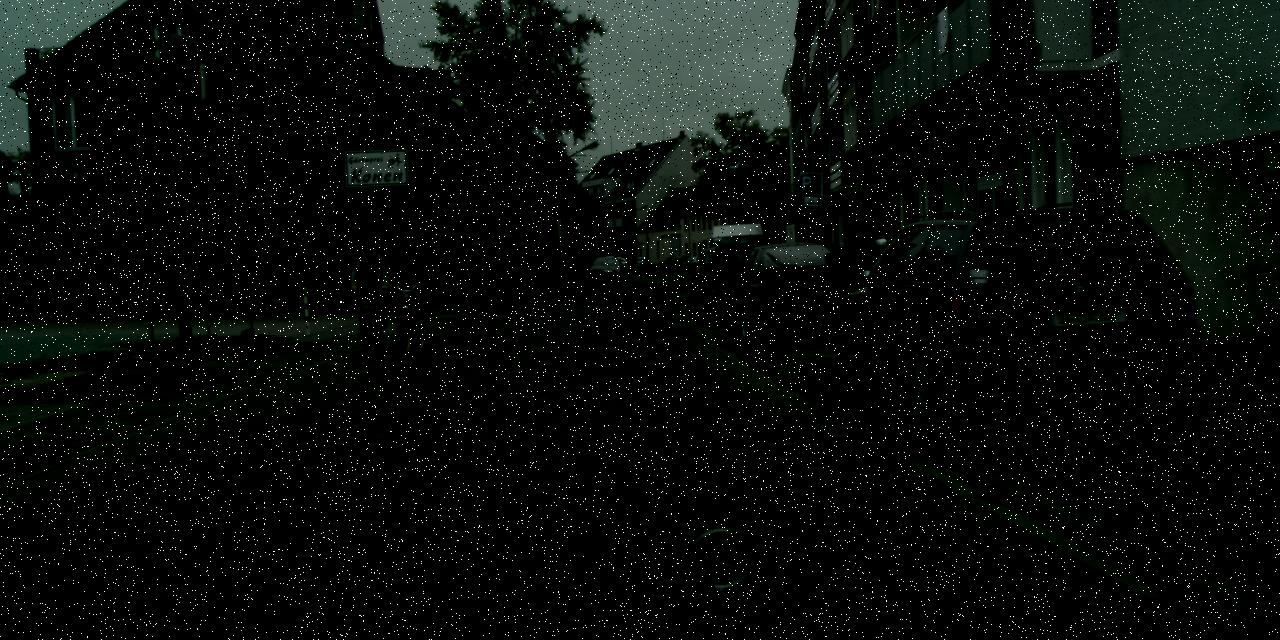ped: (391, 234, 432, 335), (353, 244, 388, 332)
